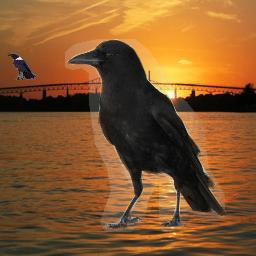Crow: (65, 39, 226, 232), (7, 53, 36, 80)
